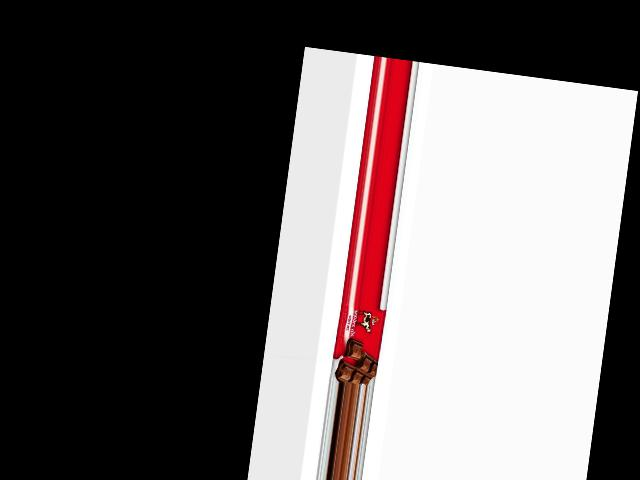chocolate: (330, 302, 385, 385)
